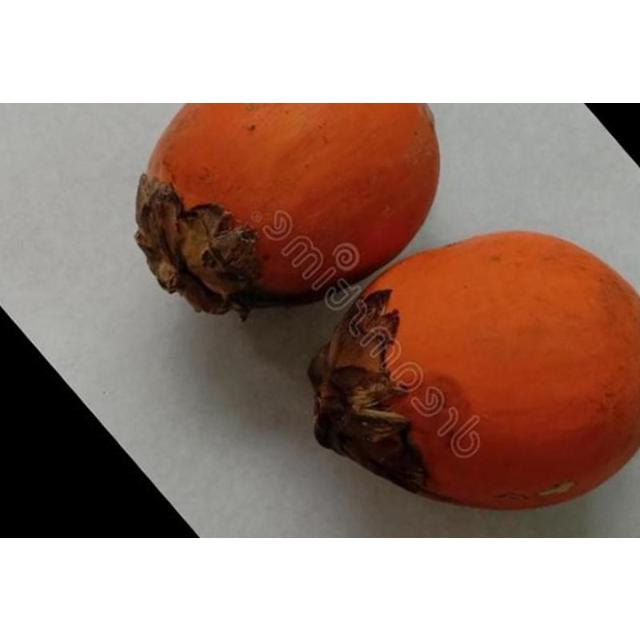good: (306, 230, 639, 511), (134, 102, 442, 319)
